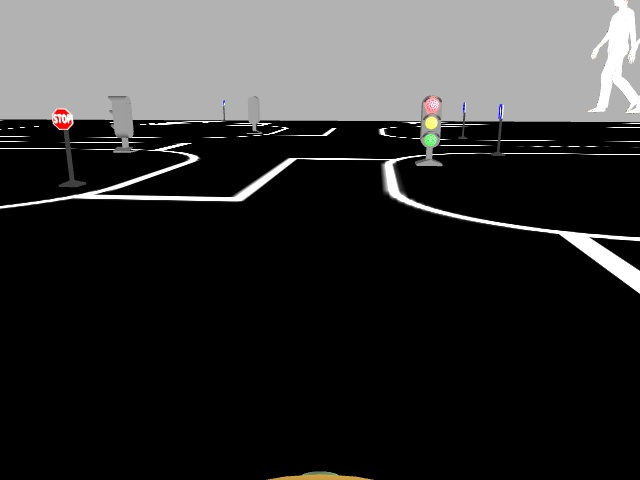Stop: (50, 106, 73, 130)
TrafficLight: (419, 95, 442, 147)
